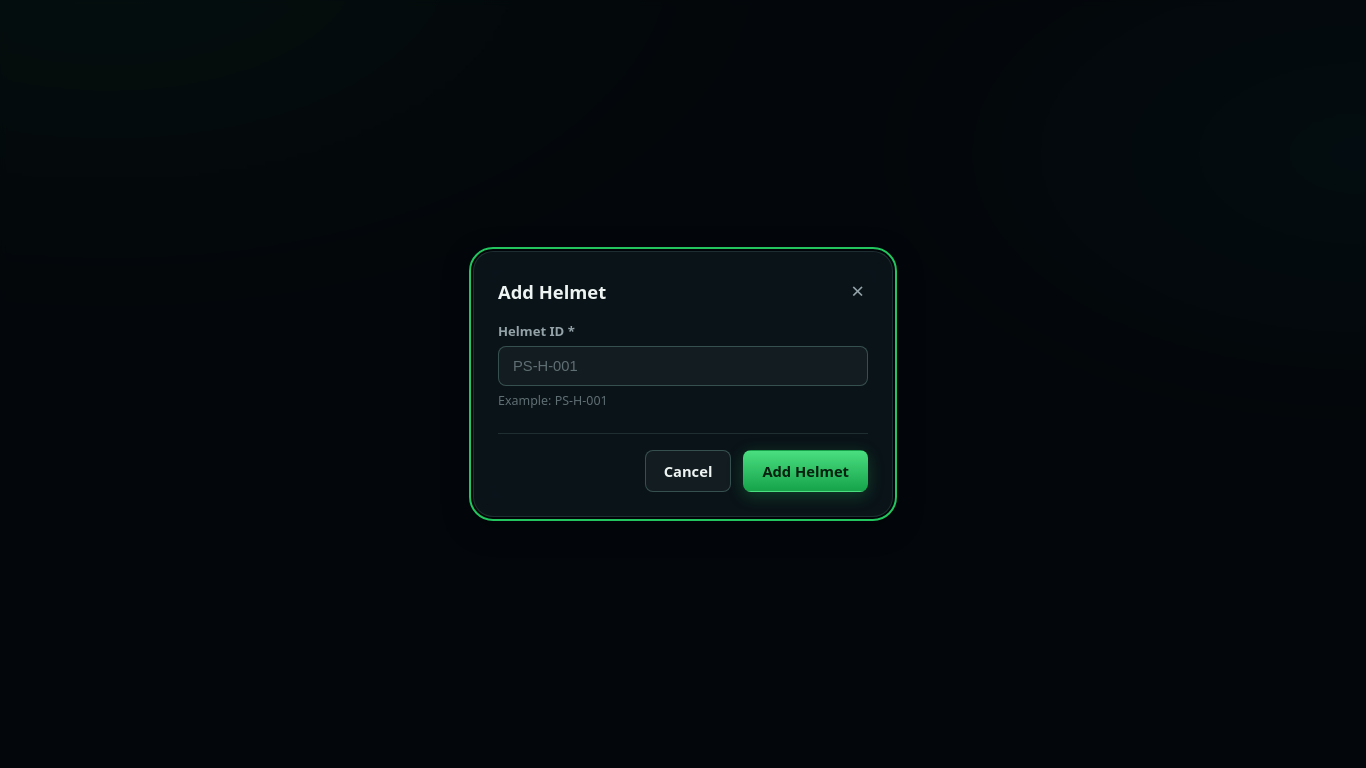
Test: AddHelmetModal › shows a validation error instead of submitting when the field is empty
The width and height of the screenshot is (1366, 768).
Click the button "Add Helmet": coordinates (806, 471) left=743, top=450, right=868, bottom=492
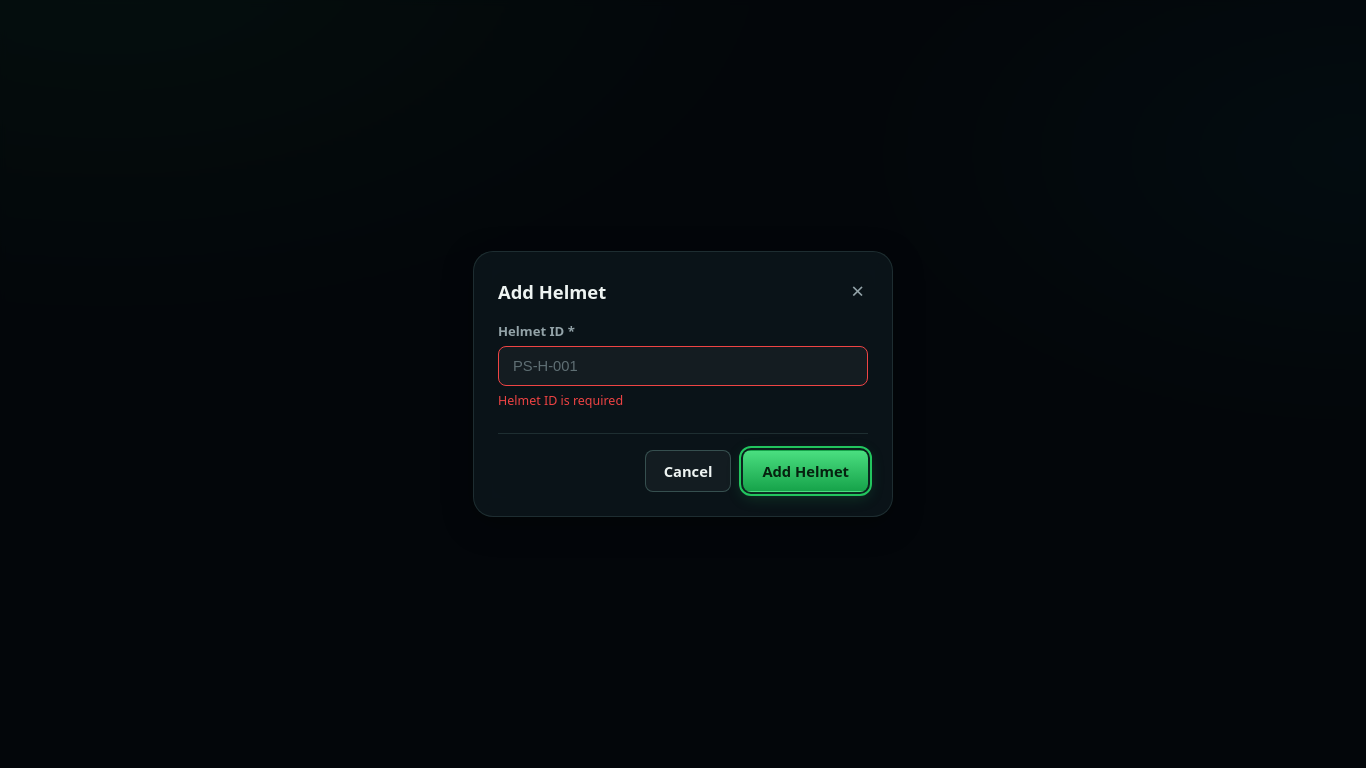
Result: the text "Helmet ID is required" is shown at left=498, top=392, right=623, bottom=409
